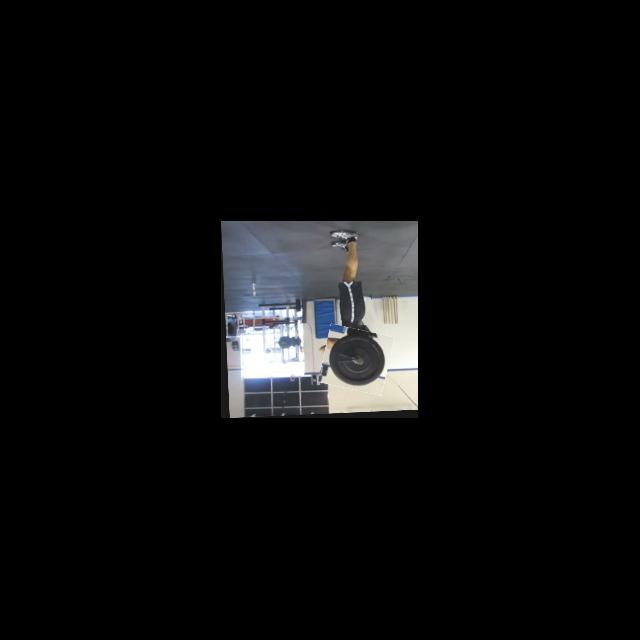barbell: (318, 326, 392, 395)
